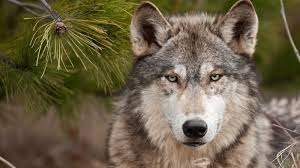Lobo: (122, 3, 276, 168)
